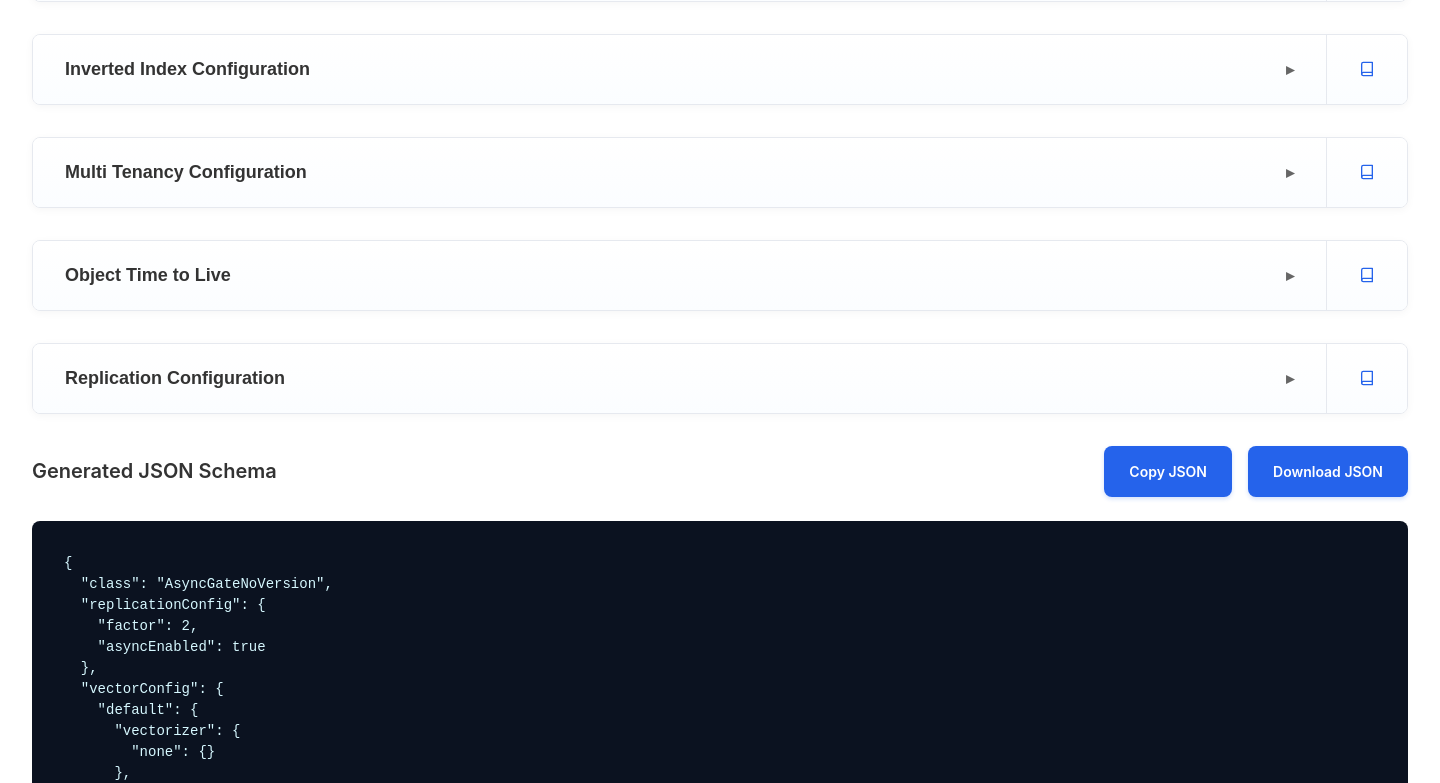
Test: Collection Component - Replication Configuration › should show asyncConfig section without version gate when no version is set
(page scrolled)
Click the button "Replication Configuration ▸" at x=175, y=378, box top-left (33, 344), bottom-right (1326, 413)
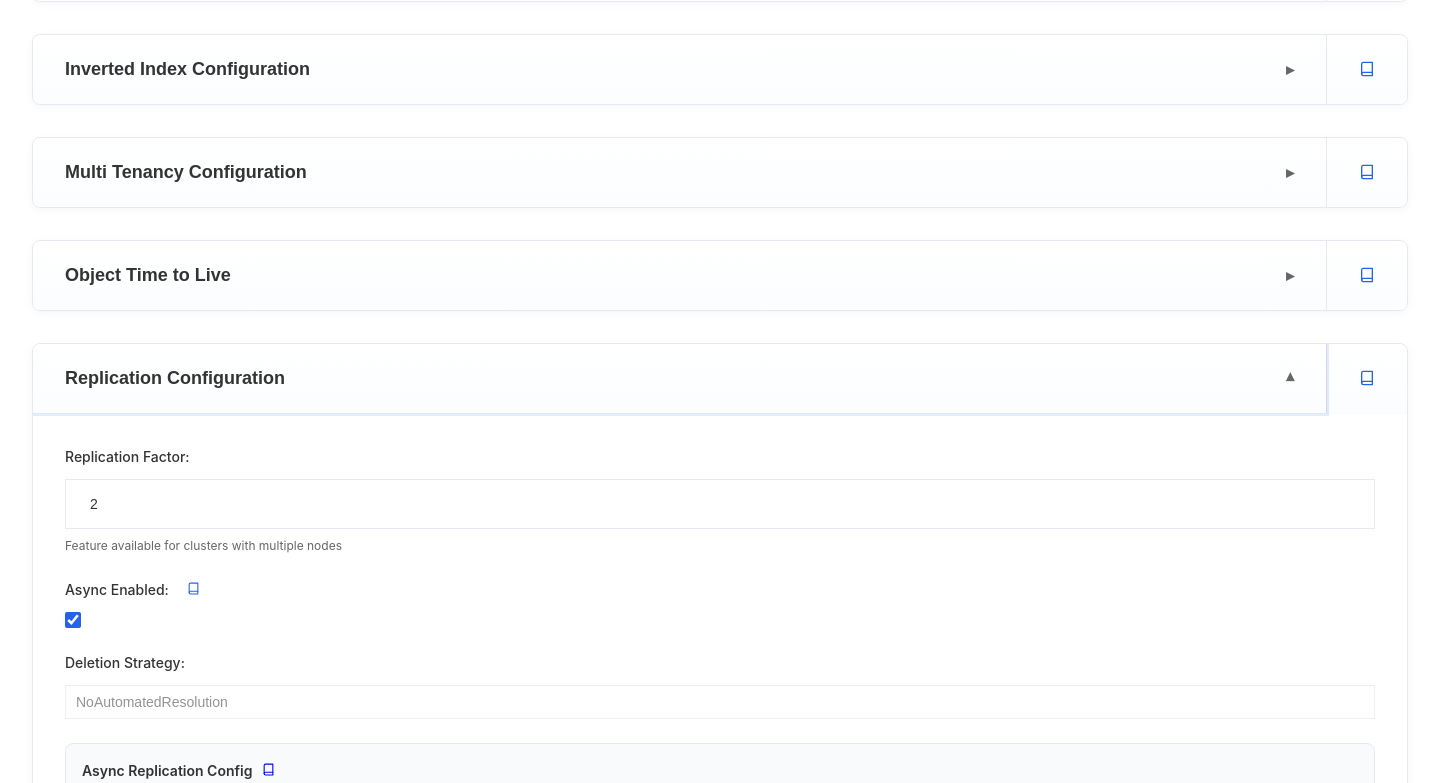
Expected: the text "Async Replication Config" is shown, top-left (82, 762), bottom-right (276, 779)
